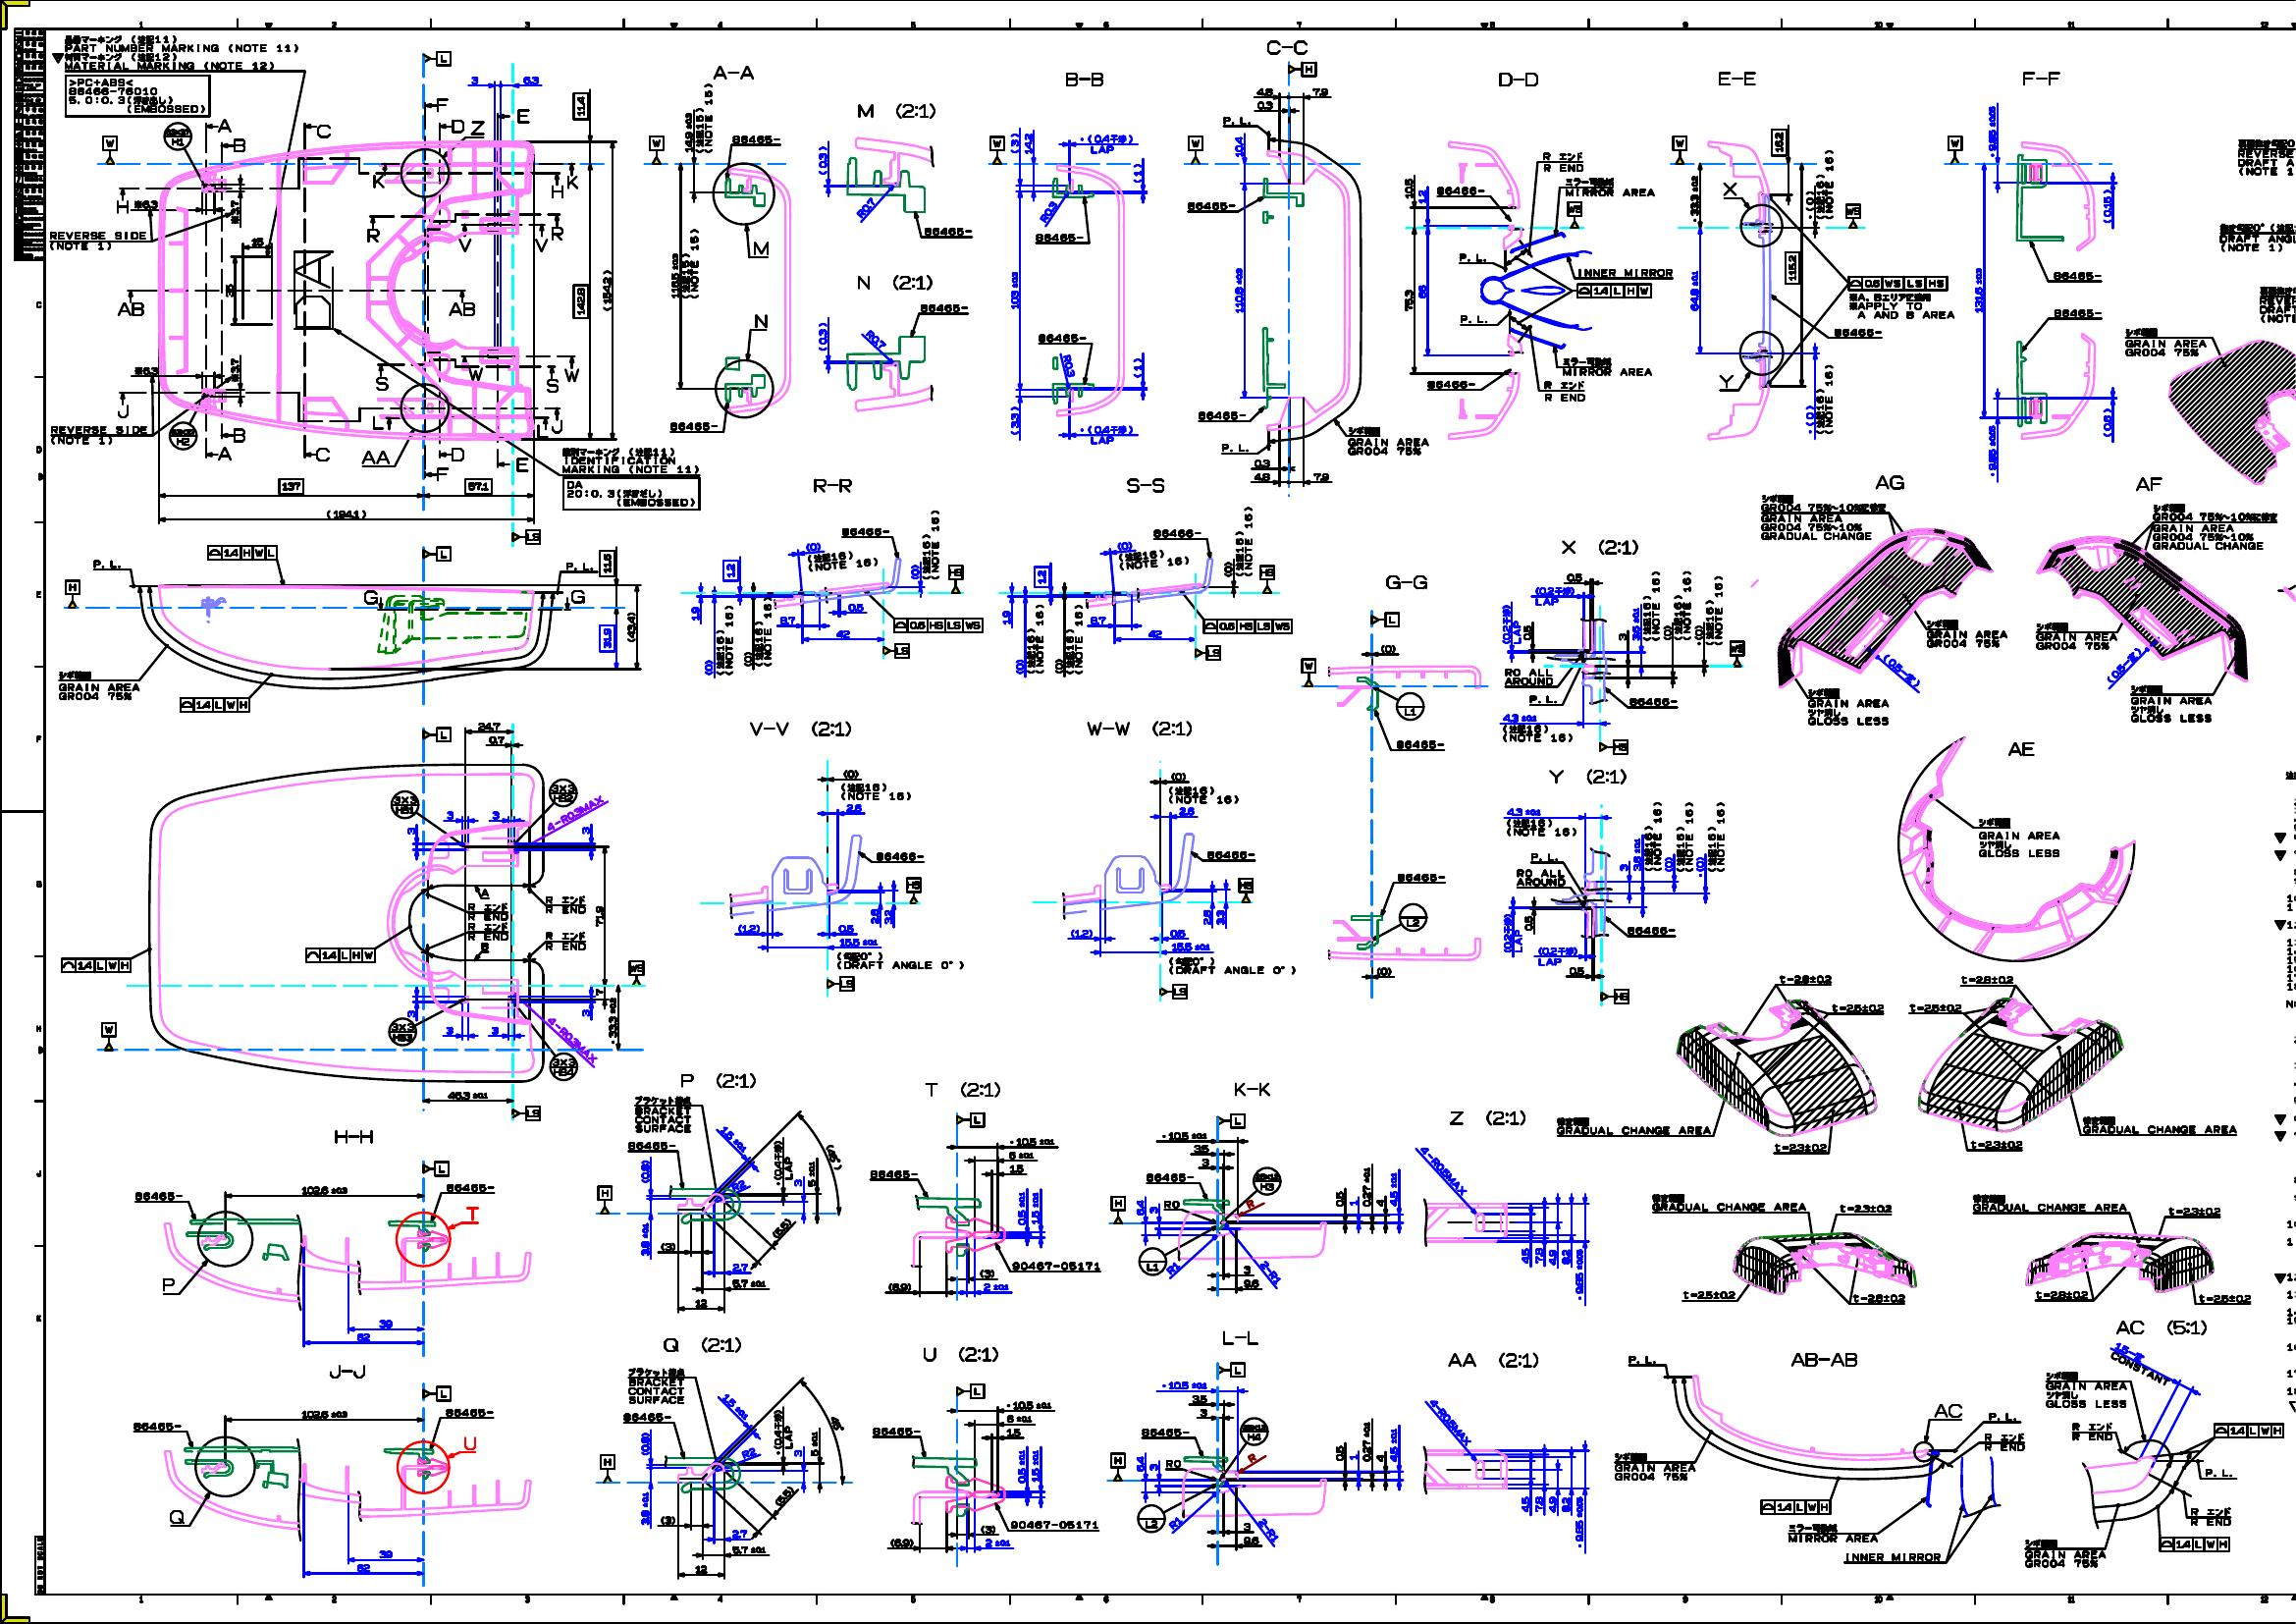anntotation_text: (1757, 492, 1888, 545), (2270, 770, 2296, 1016), (65, 74, 211, 116), (61, 32, 302, 53), (51, 49, 274, 70), (562, 476, 699, 510), (560, 446, 699, 476), (1556, 1111, 1715, 1135), (1969, 1190, 2127, 1213), (2043, 1369, 2127, 1411), (1976, 817, 2061, 859), (1804, 685, 1892, 726), (1648, 1192, 1808, 1213), (2233, 135, 2296, 188), (2082, 1114, 2238, 1135), (1166, 953, 1296, 977), (1082, 715, 1196, 742), (2219, 220, 2296, 258), (2152, 524, 2264, 550), (1850, 292, 1955, 320), (2022, 1534, 2106, 1568), (2034, 619, 2119, 652), (1346, 424, 1430, 457), (748, 717, 854, 743), (1613, 1450, 1695, 1483), (836, 951, 966, 972), (2124, 327, 2206, 359), (1924, 619, 2010, 649), (49, 424, 153, 448), (632, 1091, 692, 1134), (2152, 503, 2280, 522), (56, 671, 139, 701), (47, 230, 148, 255), (1562, 178, 1657, 202), (2131, 696, 2213, 724), (627, 1367, 687, 1406), (1446, 1350, 1539, 1373), (852, 271, 936, 295), (1783, 1522, 1878, 1543), (1558, 538, 1643, 561), (1541, 765, 1630, 786), (2113, 1316, 2210, 1336), (1231, 504, 1256, 578), (1639, 569, 1664, 643), (854, 102, 938, 123), (921, 1345, 1003, 1366), (1563, 359, 1653, 378), (713, 599, 736, 675), (1702, 571, 1725, 647), (680, 225, 703, 301), (661, 1334, 741, 1355), (1065, 603, 1087, 677), (692, 81, 715, 155), (1166, 782, 1240, 805), (921, 503, 942, 582), (1504, 816, 1576, 838), (1813, 149, 1836, 221), (678, 1069, 755, 1090), (752, 598, 775, 668), (1672, 803, 1695, 874), (2108, 1353, 2178, 1376), (1448, 1109, 1530, 1128), (921, 1081, 1003, 1100), (838, 782, 913, 803), (1026, 603, 1047, 675), (803, 550, 880, 569), (1500, 724, 1578, 743), (2259, 283, 2296, 323), (1643, 801, 1664, 872), (1075, 422, 1135, 446), (1116, 548, 1191, 568), (892, 617, 984, 633), (1672, 573, 1693, 640), (1816, 362, 1836, 434), (1706, 801, 1725, 872), (1008, 1258, 1103, 1272), (1792, 1350, 1859, 1369), (1841, 1550, 1943, 1562), (1203, 619, 1291, 633), (1848, 278, 1948, 290), (1079, 134, 1137, 155), (304, 947, 374, 963), (207, 543, 278, 559), (2068, 1418, 2115, 1441), (1542, 380, 1590, 402), (1574, 269, 1676, 279), (706, 60, 757, 81), (1237, 1413, 1270, 1445), (1393, 691, 1425, 724), (1500, 912, 1523, 958), (1498, 603, 1521, 647), (1541, 151, 1585, 174), (1267, 37, 1310, 60), (1133, 1503, 1165, 1534), (1760, 1499, 1830, 1513), (2215, 1422, 2285, 1436), (771, 1139, 792, 1185), (61, 958, 130, 972), (543, 930, 588, 951), (1574, 283, 1651, 295), (1251, 1165, 1282, 1195), (1397, 902, 1428, 932), (167, 420, 199, 450), (536, 1033, 611, 1046), (1982, 1431, 2025, 1452), (1514, 866, 1567, 884), (1502, 668, 1555, 685), (1869, 469, 1913, 490), (1491, 70, 1544, 88), (773, 1408, 792, 1455), (1381, 573, 1432, 591), (386, 1016, 416, 1046), (1219, 1329, 1261, 1350), (550, 1051, 578, 1083), (545, 895, 587, 916), (550, 775, 578, 807), (162, 121, 193, 149), (2159, 1538, 2229, 1550), (1534, 587, 1574, 608), (2189, 1506, 2233, 1526), (1715, 69, 1758, 88), (1407, 1165, 1476, 1178), (181, 698, 249, 710), (1138, 1246, 1166, 1276), (1535, 946, 1578, 965), (1036, 329, 1087, 344), (390, 789, 418, 817), (541, 807, 615, 817), (812, 478, 856, 496), (2018, 70, 2062, 88), (1063, 70, 1107, 88), (329, 1127, 376, 1142), (1230, 1081, 1272, 1098), (467, 923, 509, 940), (1186, 199, 1237, 213), (1418, 1417, 1484, 1427), (469, 902, 508, 919), (1203, 847, 1258, 859), (1124, 478, 1166, 494), (1395, 738, 1448, 750), (1627, 694, 1679, 707), (620, 1410, 673, 1422), (1008, 1520, 1100, 1527), (329, 1362, 369, 1378), (35, 1536, 46, 1596), (625, 1139, 676, 1151), (134, 1190, 184, 1202), (1145, 1171, 1196, 1183), (840, 526, 891, 538), (1625, 923, 1676, 935), (1397, 870, 1448, 882), (1033, 230, 1084, 243), (922, 225, 973, 237), (446, 301, 478, 320), (1196, 408, 1245, 420), (441, 1406, 497, 1417), (917, 302, 973, 313), (2004, 740, 2038, 758), (1931, 1403, 1967, 1418), (130, 1420, 184, 1431), (599, 1454, 617, 1485), (868, 1169, 921, 1179), (1370, 610, 1402, 627), (2129, 682, 2168, 696), (1455, 250, 1493, 264), (446, 1181, 497, 1192), (870, 1425, 921, 1436), (1152, 527, 1203, 538), (2050, 306, 2101, 316), (1437, 185, 1488, 195), (669, 420, 720, 431), (420, 1385, 453, 1401), (564, 557, 597, 573), (358, 448, 392, 464), (1108, 1450, 1126, 1480), (2134, 475, 2164, 492), (116, 301, 146, 318), (731, 134, 780, 144), (877, 851, 924, 861), (597, 1185, 615, 1213), (956, 1111, 984, 1128), (511, 1106, 541, 1121), (1260, 564, 1275, 594), (102, 134, 118, 163), (1527, 691, 1560, 705), (1219, 439, 1253, 453), (1832, 329, 1883, 337), (1423, 380, 1474, 388), (2203, 1464, 2235, 1478), (826, 975, 854, 991), (63, 580, 79, 608), (422, 547, 450, 562), (949, 566, 964, 594), (1599, 990, 1630, 1004), (750, 237, 771, 258), (648, 135, 664, 163), (1159, 982, 1188, 998), (1238, 875, 1254, 903), (2052, 271, 2101, 279), (1219, 114, 1254, 127), (1217, 1362, 1247, 1376), (1985, 1408, 2015, 1422), (906, 875, 921, 905), (1142, 1427, 1189, 1436), (100, 1023, 116, 1049), (1567, 202, 1583, 228), (513, 529, 539, 545), (1627, 1352, 1660, 1364), (90, 557, 123, 569), (360, 589, 381, 608), (956, 1385, 984, 1399), (423, 728, 451, 742), (1302, 657, 1316, 685), (1599, 738, 1627, 752), (422, 51, 450, 65), (1195, 643, 1219, 659), (752, 311, 771, 330), (230, 425, 249, 445), (882, 643, 908, 657), (1729, 640, 1743, 666), (1216, 1114, 1245, 1127), (1530, 849, 1560, 861), (1672, 135, 1685, 165), (1288, 63, 1318, 76), (423, 1162, 448, 1176), (1110, 1195, 1123, 1223), (1948, 135, 1960, 163), (1458, 311, 1486, 323), (1189, 137, 1202, 165), (464, 1204, 481, 1223), (169, 1506, 186, 1526), (569, 587, 587, 606), (1845, 206, 1860, 227), (629, 960, 641, 986), (369, 172, 386, 190), (562, 366, 580, 383), (460, 1434, 478, 1452), (457, 237, 473, 257), (466, 366, 485, 381), (991, 137, 1003, 162), (1718, 373, 1734, 390), (114, 404, 132, 420), (314, 446, 330, 464), (365, 228, 383, 244), (450, 445, 466, 462), (214, 116, 232, 132), (369, 413, 383, 432), (450, 116, 464, 135), (1722, 181, 1737, 197), (114, 197, 130, 213), (374, 376, 390, 392), (550, 225, 566, 241), (513, 457, 529, 473), (550, 420, 566, 436), (469, 120, 485, 135), (160, 1278, 177, 1292), (550, 183, 564, 200), (436, 464, 448, 483), (536, 424, 550, 439), (515, 107, 529, 123), (434, 97, 450, 111), (314, 123, 330, 137), (536, 236, 548, 253), (232, 135, 244, 153), (218, 446, 232, 460), (566, 174, 578, 190), (546, 378, 559, 392), (478, 940, 490, 953), (480, 888, 488, 900)
dimension_text: (2168, 1202, 2220, 1218), (1966, 1137, 2024, 1151), (1769, 1139, 1827, 1153), (1776, 972, 1834, 986), (1957, 972, 2015, 986), (2097, 659, 2148, 675), (1570, 1246, 1585, 1301), (1878, 664, 1925, 680), (1230, 265, 1245, 313), (1830, 1000, 1883, 1014), (1836, 1200, 1895, 1213), (2032, 1287, 2090, 1299), (2194, 1290, 2250, 1302), (1681, 1288, 1736, 1301), (1852, 1292, 1906, 1304), (1985, 102, 1997, 156), (1384, 1169, 1400, 1211), (669, 250, 682, 302), (1987, 424, 1997, 483), (1975, 265, 1987, 316), (299, 1183, 350, 1195), (599, 269, 613, 313), (1908, 1004, 1966, 1014), (1574, 1494, 1585, 1552), (1500, 710, 1539, 726), (1159, 1378, 1209, 1390), (1007, 269, 1021, 311), (1358, 1165, 1372, 1207), (838, 935, 880, 949), (573, 283, 588, 320), (323, 508, 369, 520), (297, 1408, 350, 1418), (636, 1220, 650, 1258), (571, 91, 588, 121), (1360, 1420, 1372, 1462), (1007, 1135, 1056, 1146), (1172, 939, 1214, 951), (1630, 605, 1643, 647), (464, 478, 495, 494), (1007, 1401, 1054, 1411), (1159, 1130, 1207, 1141), (1690, 174, 1700, 220), (606, 995, 617, 1040), (729, 1278, 768, 1290), (815, 320, 829, 353), (815, 142, 829, 176), (682, 111, 692, 155), (446, 1090, 490, 1100), (1785, 251, 1799, 283), (1688, 269, 1699, 311), (863, 332, 894, 346), (982, 1536, 1014, 1550), (599, 624, 615, 652), (715, 1401, 755, 1411), (982, 1280, 1012, 1294), (1015, 1450, 1028, 1483), (722, 559, 741, 580), (134, 197, 162, 211), (885, 1280, 913, 1294), (279, 478, 304, 494), (1388, 1425, 1398, 1462), (729, 1545, 766, 1555), (624, 610, 636, 642), (1773, 130, 1787, 156), (1029, 1448, 1040, 1483), (1015, 1190, 1026, 1225), (639, 1490, 650, 1526), (599, 550, 613, 576), (850, 202, 880, 214), (717, 1134, 750, 1144), (1632, 837, 1643, 870), (2101, 408, 2113, 436), (1231, 135, 1245, 160), (1007, 406, 1019, 434), (228, 355, 241, 383), (132, 364, 160, 376), (1256, 1265, 1284, 1278), (829, 1142, 841, 1171), (2103, 186, 2112, 225), (1033, 566, 1049, 587), (1029, 1190, 1038, 1227), (638, 1158, 650, 1185), (1804, 404, 1815, 434), (1007, 1149, 1036, 1160), (808, 1429, 819, 1459), (1042, 199, 1054, 223), (1007, 132, 1019, 156), (889, 1536, 913, 1548), (1070, 926, 1094, 939), (1254, 1526, 1282, 1536), (1565, 569, 1586, 584), (228, 197, 237, 230), (1693, 852, 1706, 875), (639, 1431, 652, 1454), (478, 719, 501, 731), (1806, 190, 1815, 221), (1404, 286, 1414, 313), (1065, 353, 1075, 380), (223, 279, 237, 299), (1005, 1413, 1035, 1422), (1520, 1246, 1532, 1267), (1534, 1246, 1546, 1267), (1546, 1246, 1558, 1267), (1309, 86, 1330, 98), (1131, 355, 1142, 380), (769, 1223, 794, 1234), (771, 1490, 796, 1501), (592, 903, 603, 928), (736, 923, 761, 933), (1664, 852, 1674, 877), (1404, 174, 1412, 202), (803, 540, 820, 554), (906, 562, 921, 580), (1131, 162, 1142, 185), (1333, 1186, 1344, 1209), (1312, 471, 1332, 483), (520, 74, 539, 86), (729, 1179, 748, 1192), (487, 733, 506, 745), (1214, 907, 1226, 926), (845, 601, 864, 613), (1116, 541, 1135, 554), (1221, 559, 1233, 578), (1521, 914, 1534, 933), (806, 1160, 815, 1186), (1416, 186, 1426, 207), (1416, 279, 1426, 301), (1191, 1142, 1212, 1153), (657, 1241, 678, 1251), (1166, 926, 1188, 937), (1203, 907, 1214, 928), (1256, 98, 1274, 111), (1022, 132, 1031, 156), (248, 236, 265, 248), (978, 1522, 996, 1534), (1242, 1534, 1260, 1547), (1333, 1443, 1346, 1461), (1534, 1496, 1546, 1513), (731, 1526, 748, 1538), (355, 1562, 372, 1575), (376, 1316, 393, 1329), (841, 766, 859, 779), (870, 907, 882, 924), (689, 605, 701, 622), (1381, 642, 1398, 654), (1560, 1248, 1570, 1267), (1251, 457, 1270, 468), (1546, 1496, 1556, 1515), (845, 801, 864, 812), (778, 615, 798, 626), (1014, 657, 1024, 677), (1089, 615, 1108, 626), (1664, 624, 1674, 643), (1521, 622, 1532, 642), (1240, 1278, 1263, 1287), (1346, 1195, 1360, 1209), (694, 1562, 708, 1577), (661, 1512, 675, 1526), (378, 1547, 393, 1559), (1256, 86, 1274, 97), (1005, 1425, 1022, 1436), (1520, 1496, 1530, 1513), (1558, 1496, 1569, 1513), (1165, 1264, 1182, 1274), (1135, 1199, 1145, 1216), (1163, 1199, 1180, 1209), (882, 909, 892, 926), (1179, 805, 1196, 816), (743, 650, 754, 668), (1001, 608, 1012, 626), (1147, 629, 1165, 640), (1374, 965, 1391, 975), (1567, 967, 1585, 977), (1374, 1195, 1388, 1207), (694, 1297, 708, 1309), (1614, 629, 1628, 642), (833, 1413, 841, 1432), (351, 1332, 371, 1341), (1168, 772, 1188, 780), (704, 657, 713, 677), (1254, 471, 1270, 482), (1191, 1394, 1207, 1404), (1168, 1519, 1184, 1529), (980, 1267, 996, 1278), (834, 627, 850, 638), (1137, 1454, 1145, 1471), (1007, 1162, 1024, 1171), (740, 1450, 757, 1459), (838, 924, 856, 933), (1618, 861, 1630, 874), (469, 76, 483, 86), (1198, 1404, 1209, 1418), (731, 1262, 747, 1271), (1695, 624, 1702, 643), (1200, 1156, 1212, 1167), (792, 1178, 803, 1190), (791, 1448, 803, 1459), (406, 1009, 418, 1019), (444, 1025, 455, 1037), (490, 1025, 502, 1035), (1166, 1459, 1180, 1468), (1247, 1452, 1258, 1462), (1240, 1262, 1251, 1272), (1147, 1204, 1158, 1214), (580, 1007, 590, 1018), (1247, 1199, 1256, 1211), (1149, 1462, 1159, 1471), (1375, 1452, 1384, 1462), (594, 986, 604, 995), (580, 826, 590, 835), (404, 826, 415, 835), (444, 810, 455, 819), (492, 808, 499, 821), (1242, 1520, 1251, 1529), (1349, 1452, 1356, 1461)
object: (149, 763, 546, 1083), (156, 137, 536, 441), (1894, 735, 2136, 960), (1326, 666, 1484, 960), (135, 580, 555, 689), (1672, 1374, 1999, 1513), (1449, 139, 1592, 438), (1776, 526, 1996, 698), (162, 1214, 536, 1309), (162, 1446, 532, 1533), (2036, 536, 2252, 684), (1910, 997, 2129, 1134), (1674, 1000, 1885, 1135), (1263, 135, 1356, 438), (2017, 141, 2097, 439), (847, 135, 933, 415), (1708, 137, 1773, 443), (2164, 339, 2296, 487), (1054, 160, 1126, 418), (724, 165, 792, 418), (2082, 1383, 2192, 1526), (2024, 1229, 2219, 1294), (727, 831, 864, 923), (1063, 831, 1198, 923), (1736, 1234, 1920, 1301), (1175, 1209, 1326, 1260), (1182, 1466, 1326, 1519), (906, 1454, 1008, 1527), (1086, 557, 1214, 615), (910, 1195, 1008, 1269), (775, 557, 901, 606), (1555, 849, 1614, 939), (1556, 617, 1611, 705), (1421, 1200, 1514, 1244), (662, 1454, 741, 1497), (1423, 1450, 1511, 1489), (666, 1185, 740, 1225)
title_block: (14, 26, 44, 258)
